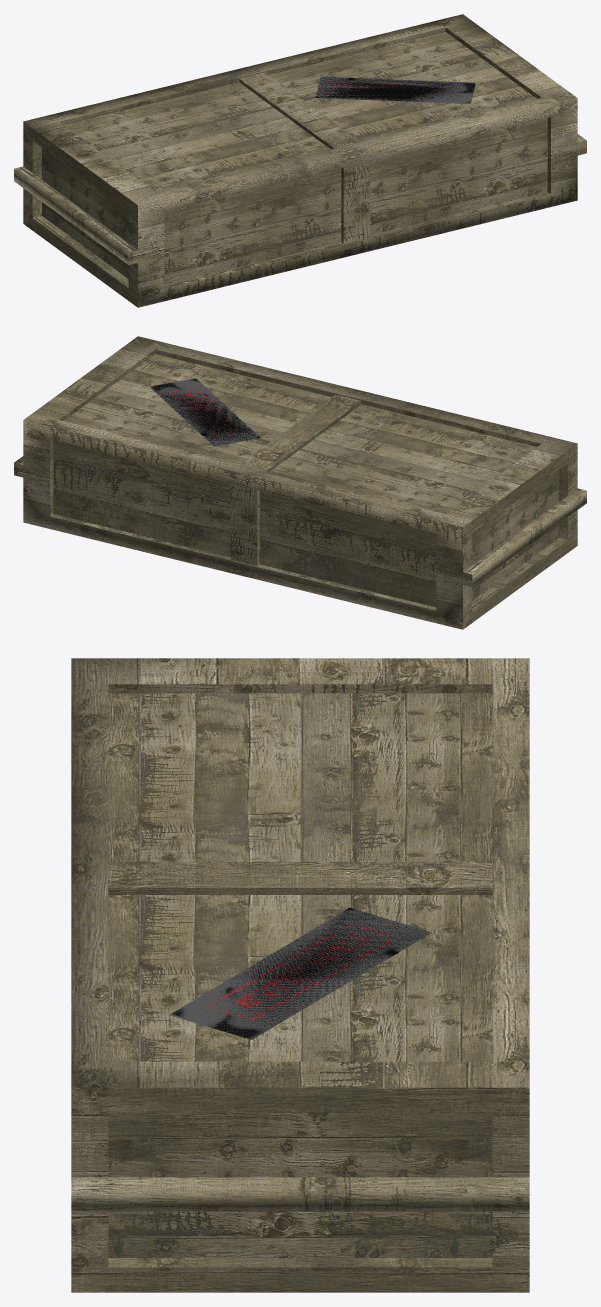
The model's file is Wood box.fbx.
The picture shows the model from 3 angles, top to bottom: view 1: azimuth 30°, elevation 25°; view 2: azimuth 150°, elevation 25°; view 3: azimuth 270°, elevation 25°; orthographic projection. The views are drawn at different scales.
Parts seen in each view (by area): view 1: box, decal; view 2: box, decal; view 3: box, decal.
Boxes of the visible parts, left/top/right/bottom form: box: left=14, top=14, right=586, bottom=307; decal: left=316, top=76, right=475, bottom=103; box: left=14, top=336, right=586, bottom=629; decal: left=150, top=378, right=260, bottom=446; box: left=71, top=658, right=529, bottom=1292; decal: left=169, top=907, right=431, bottom=1039.
Bounding box in the file's own units: 1577 × 337 × 683.
